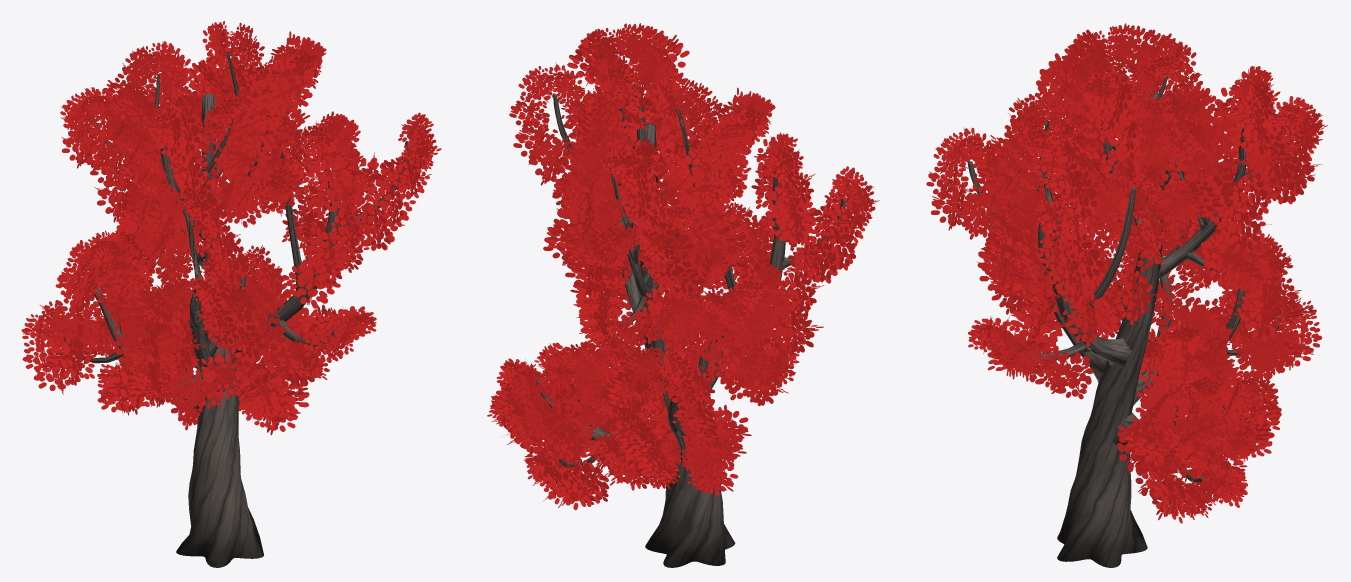
Rendered from TwistedTree_3.glb.
3 views of the same model, side by side, from view 1: azimuth 30°, elevation 25°; view 2: azimuth 150°, elevation 25°; view 3: azimuth 270°, elevation 25° (orthographic). The views are drawn at different scales.
Size of the model in its own units: 11.36 by 16.07 by 11.51.
2 materials, 2 textured.
